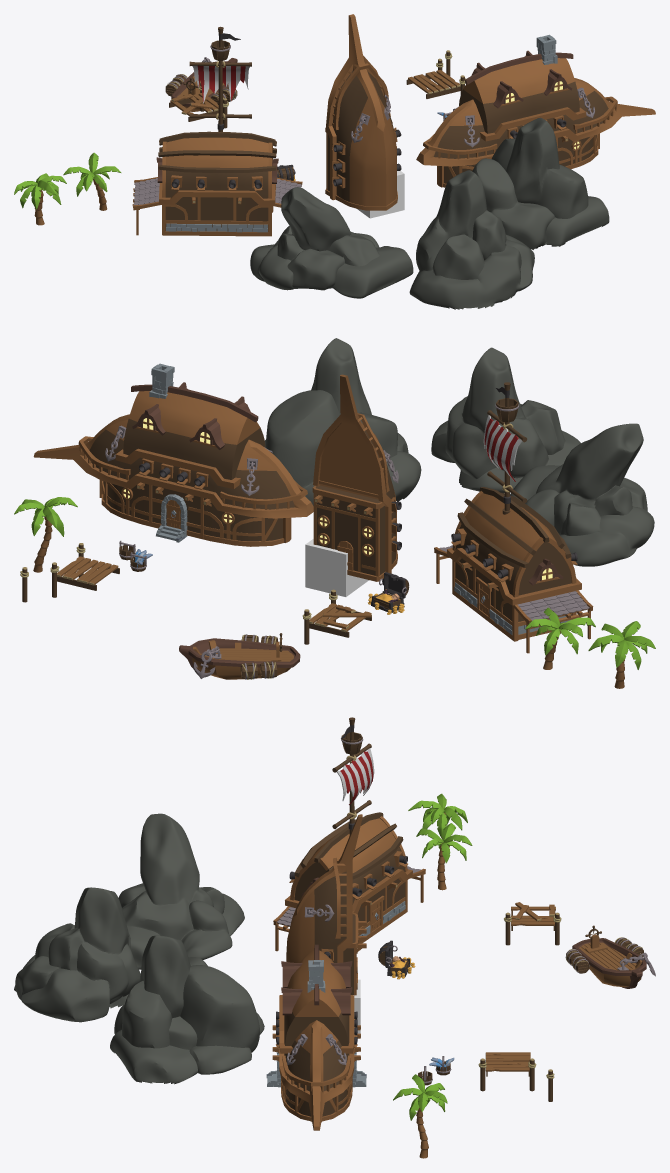
Rendered from Gameboar_back.glb.
3 renders of one model, top to bottom at view 1: azimuth 30°, elevation 25°; view 2: azimuth 150°, elevation 25°; view 3: azimuth 270°, elevation 25°, orthographic. The views are drawn at different scales.
Parts seen in each view (by area): view 1: Environment_House3, Environment_House1, Environment_Cliff3, Environment_Cliff2, Environment_Cliff4, Environment_House2, Environment_Dock, Environment_PalmTree_3, Ship_Small, Environment_PalmTree_2, Environment_Dock_Broken, Cube; view 2: Environment_House1, Environment_House3, Environment_Cliff4, Environment_House2, Environment_Cliff3, Environment_Cliff2, Ship_Small, Cube, Environment_Dock, Environment_PalmTree_3, Environment_Dock_Broken, Environment_PalmTree_2 (+2 smaller); view 3: Environment_Cliff2, Environment_House1, Environment_Cliff3, Environment_House3, Environment_Cliff4, Environment_House2, Ship_Small, Environment_PalmTree_1, Environment_Dock, Environment_Dock_Broken, Environment_PalmTree_2, Environment_PalmTree_3 (+1 smaller).
Boxes of the visible parts, <box> form: Environment_House3: <box>132,26,302,236</box>; Environment_House1: <box>416,34,655,187</box>; Environment_Cliff3: <box>409,170,534,309</box>; Environment_Cliff2: <box>472,117,609,249</box>; Environment_Cliff4: <box>250,187,413,298</box>; Environment_House2: <box>325,14,401,210</box>; Environment_Dock: <box>406,58,465,98</box>; Environment_PalmTree_3: <box>14,173,66,225</box>; Ship_Small: <box>165,57,237,111</box>; Environment_PalmTree_2: <box>63,152,121,210</box>; Environment_Dock_Broken: <box>169,82,228,128</box>; Cube: <box>357,170,404,218</box>; Environment_House1: <box>33,363,313,546</box>; Environment_House3: <box>434,382,593,653</box>; Environment_Cliff4: <box>510,423,654,566</box>; Environment_House2: <box>312,374,401,581</box>; Environment_Cliff3: <box>431,347,580,493</box>; Environment_Cliff2: <box>265,338,421,505</box>; Ship_Small: <box>179,633,300,679</box>; Cube: <box>305,539,368,596</box>; Environment_Dock: <box>50,543,119,597</box>; Environment_PalmTree_3: <box>588,621,655,688</box>; Environment_Dock_Broken: <box>302,589,371,644</box>; Environment_PalmTree_2: <box>525,607,595,669</box>; Environment_Cliff2: <box>110,935,264,1084</box>; Environment_House1: <box>266,944,366,1130</box>; Environment_Cliff3: <box>14,887,140,1022</box>; Environment_House3: <box>273,717,425,951</box>; Environment_Cliff4: <box>118,813,244,969</box>; Environment_House2: <box>286,814,366,995</box>; Ship_Small: <box>565,925,655,988</box>; Environment_PalmTree_1: <box>393,1074,447,1158</box>; Environment_Dock: <box>478,1052,536,1091</box>; Environment_Dock_Broken: <box>504,902,561,945</box>; Environment_PalmTree_2: <box>416,823,472,890</box>; Environment_PalmTree_3: <box>408,793,467,846</box>.
Bounding box in the file's own units: 33.69 × 12.36 × 29.5.
4 materials, 2 textured.
